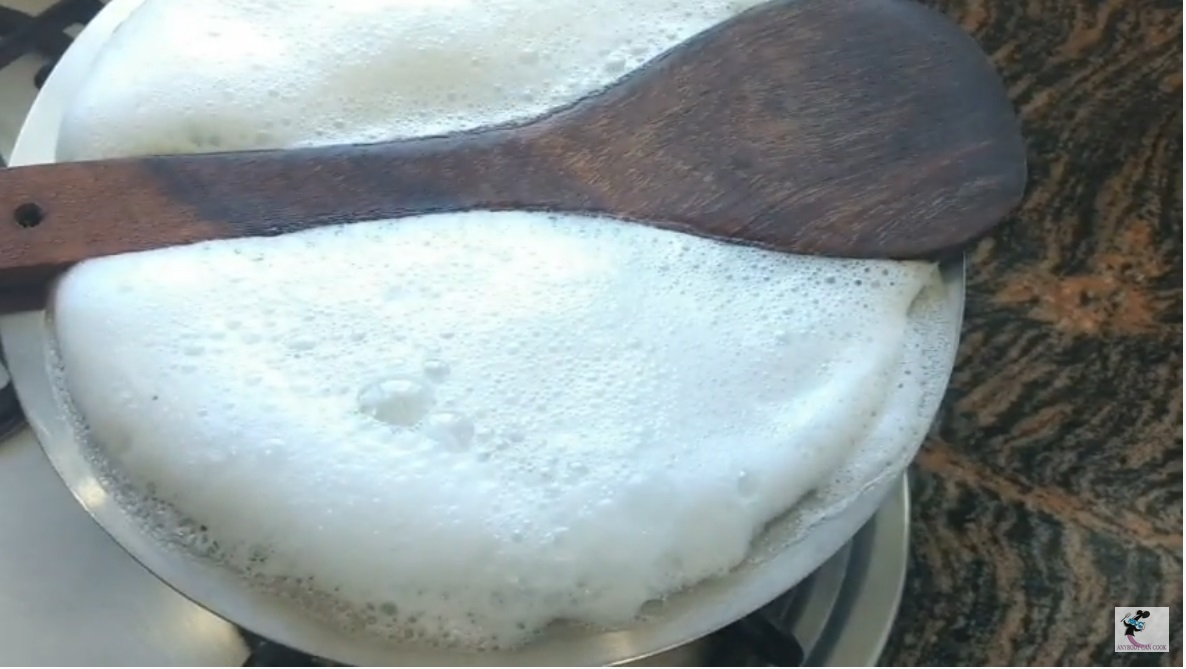Boiled: (65, 1, 982, 608)
